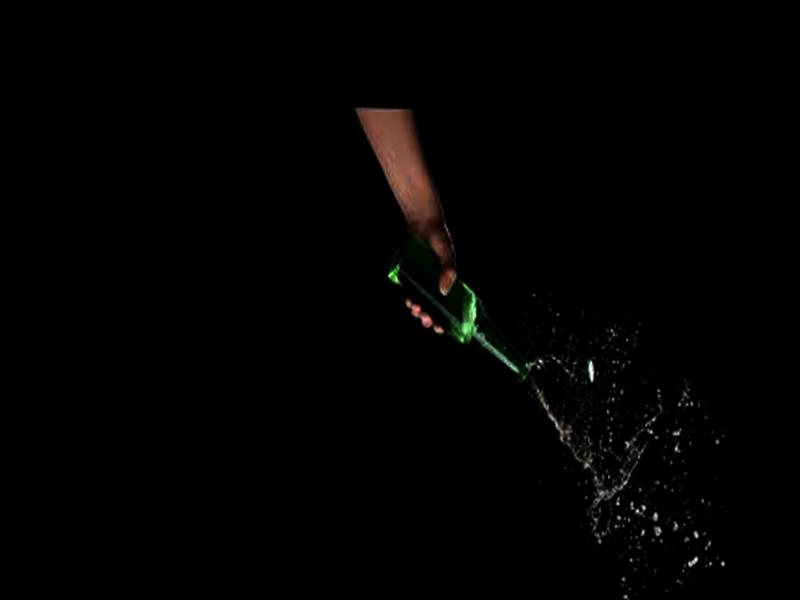Beer: (382, 227, 531, 382)
